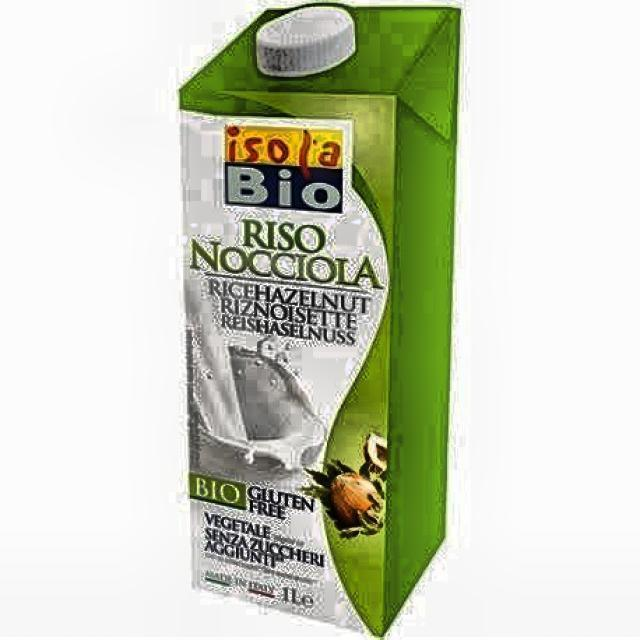cardboard: (178, 1, 462, 638)
